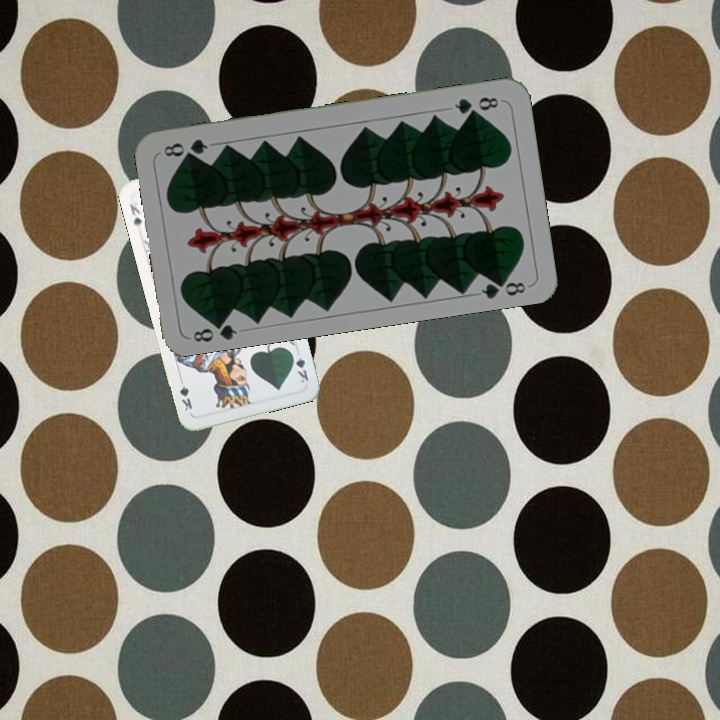G8: (189, 314, 240, 345), (450, 92, 502, 118)
GK: (288, 348, 311, 385), (126, 198, 144, 231)
